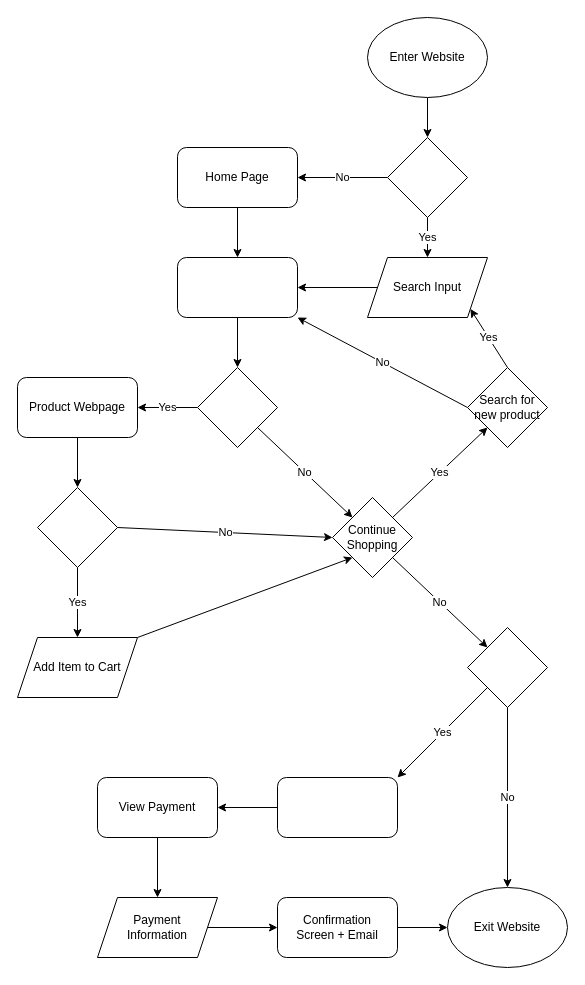
The diagram is 585 pixels wide and 985 high, and some of its shapes have lost their labels. The shapes that lost their labels are listed below. From the top down, each one's centre as x and y in pixels, then its label:
At pixel 427 177: "Search for Product".
At pixel 237 287: "Browse Products".
At pixel 237 407: "View Product".
At pixel 77 527: "Add to Cart".
At pixel 507 667: "Check out".
At pixel 337 807: "View Cart".
